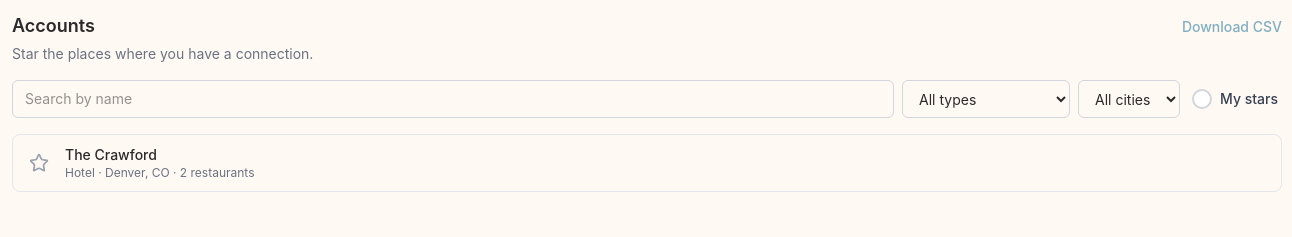
Test case: MepAccountList › L3 a refused star leaves the row and says so
Click the button named "Star The Crawford": (39, 163) [25,149,53,177]
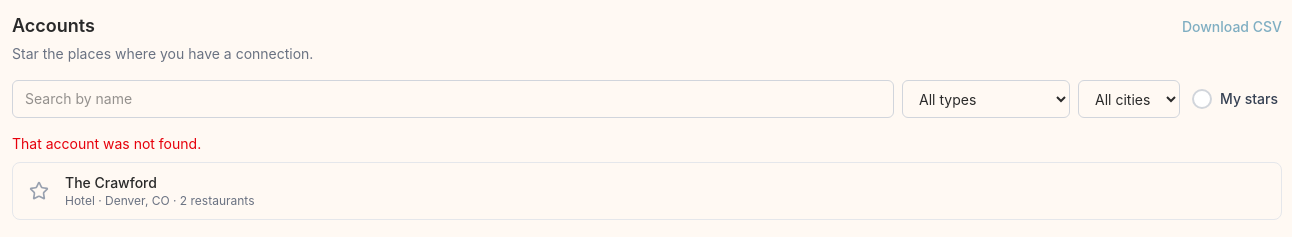
Check: the message reads "That account was not found.", box [12,135,201,152]
